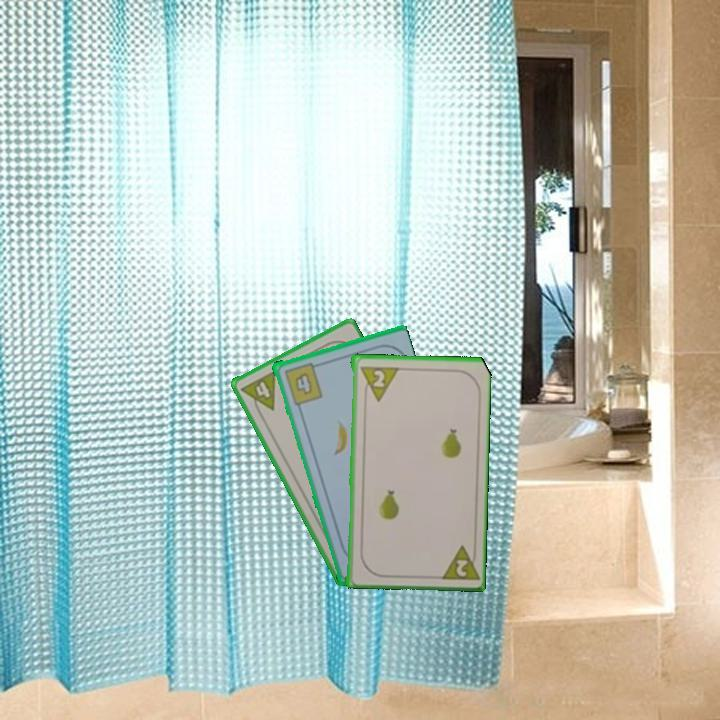2p: (435, 541, 480, 583), (356, 362, 399, 403)
4b: (280, 358, 325, 407)
4p: (237, 367, 278, 419)
